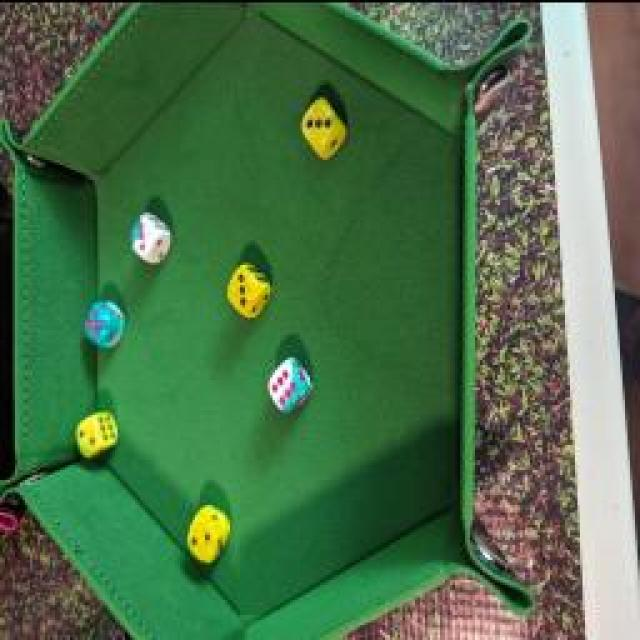dice_2: (186, 500, 234, 562), (74, 402, 124, 458)
dice_3: (299, 92, 349, 162), (226, 255, 274, 320), (128, 208, 172, 272)
dice_5: (85, 290, 125, 350)
dice_6: (266, 358, 314, 418)
